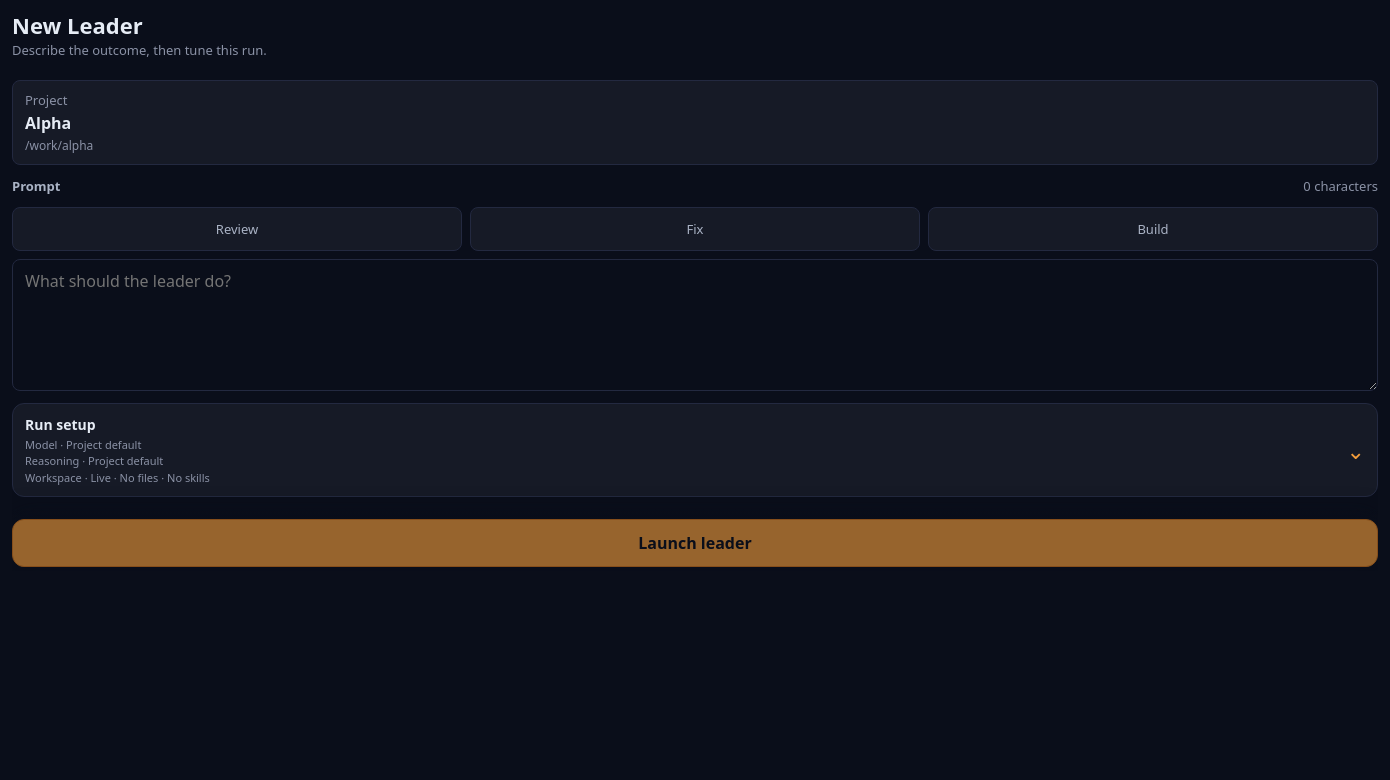
Scenario: LaunchScreen › re-enables canonical launch after an error
The width and height of the screenshot is (1390, 780).
Type "Try launch" into the text box labelled "Prompt" at x=695, y=325, box [12,259,1378,391]
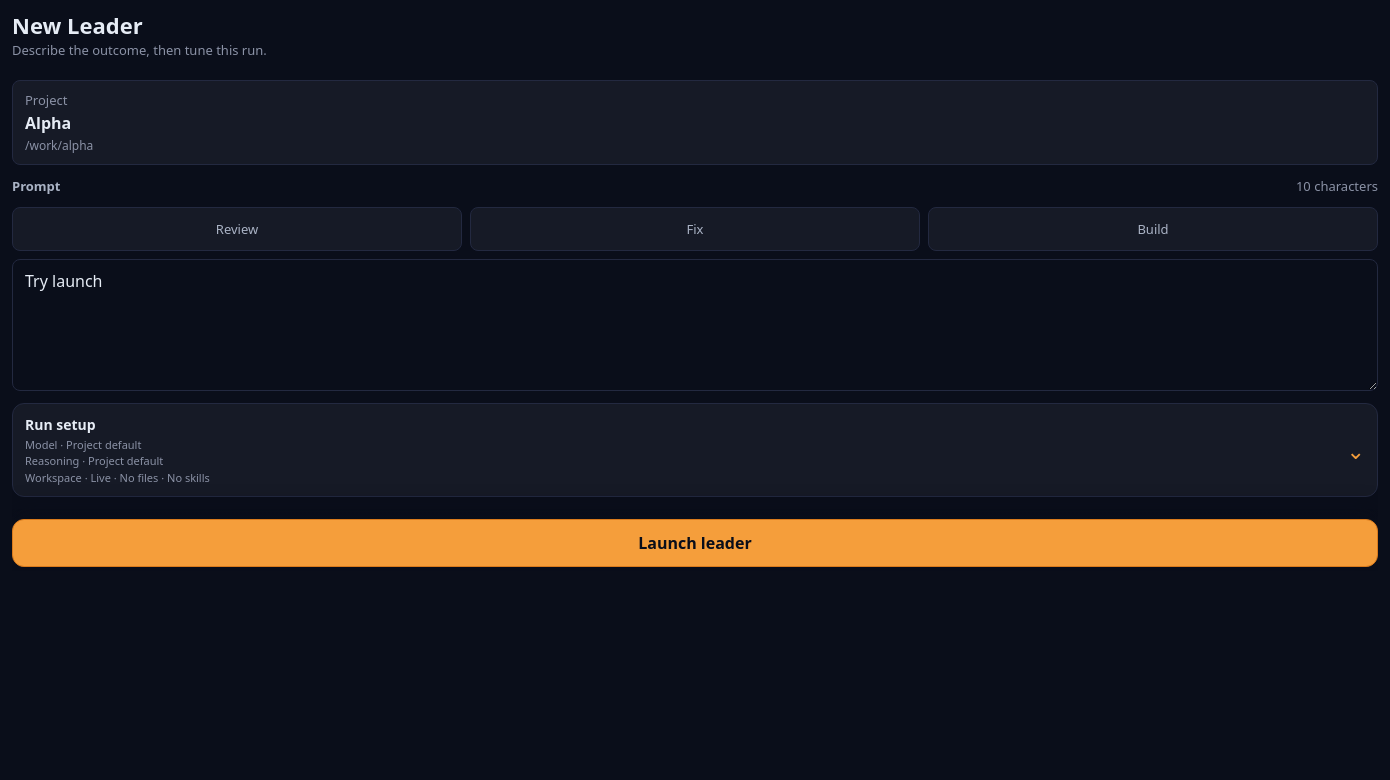
Click the button "Launch leader" at x=695, y=543, box [12,519,1378,567]
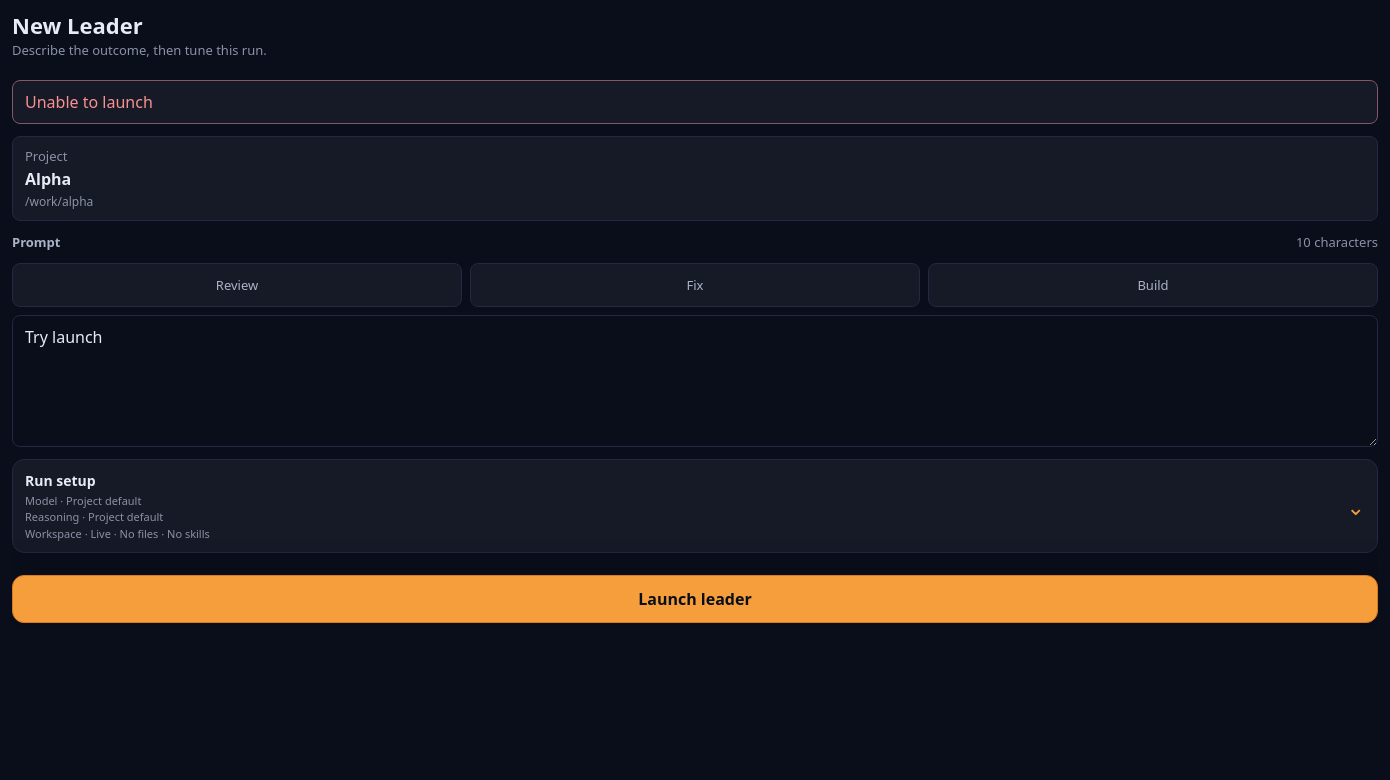
Expected: the button "Launch leader" is enabled, [12,575,1378,623]
Expected: the message reads "Unable to launch", [25,91,153,113]
